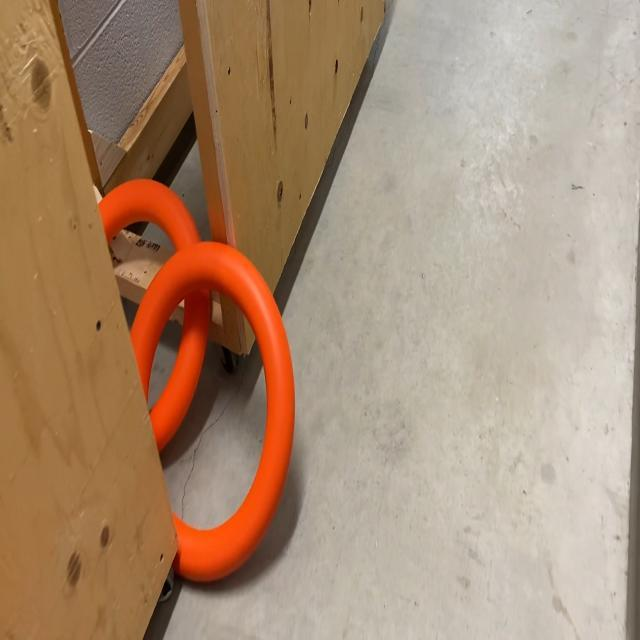note: (129, 238, 296, 586), (96, 178, 212, 450)
